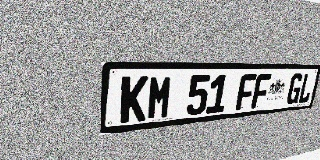1: (206, 74, 229, 114)
5: (186, 75, 211, 116)
F: (235, 74, 257, 110), (251, 74, 271, 109)
G: (285, 73, 304, 105)
K: (120, 76, 148, 123)
L: (297, 73, 315, 104)
M: (146, 75, 173, 120)
